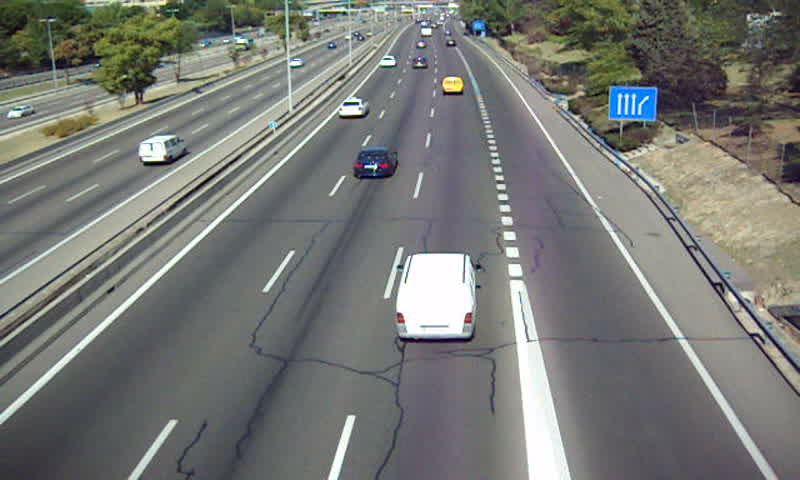car: (353, 148, 398, 176), (337, 99, 369, 119), (378, 55, 395, 68), (411, 56, 429, 68)
van: (396, 253, 477, 340), (443, 76, 463, 95)
